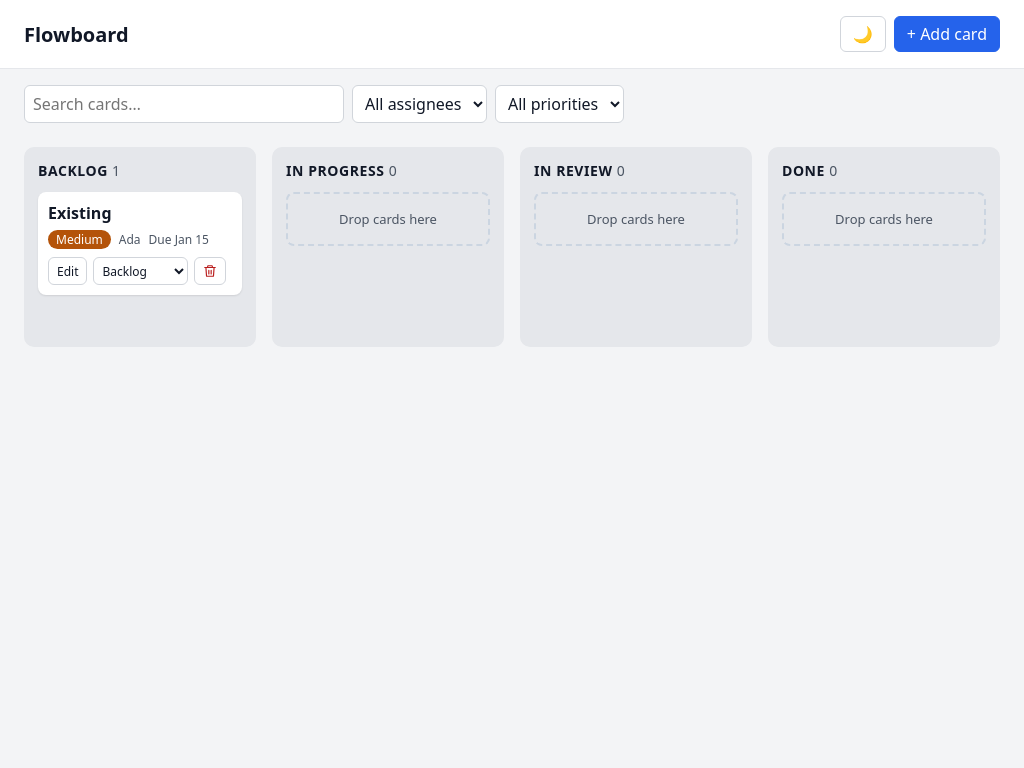
Test case: creating cards › adds a new card to Backlog after the last Backlog card
Expected: the element "Backlog" is shown, [24, 147, 256, 347]
Click the button "+ Add card". click: (947, 34)
box: [894, 16, 1000, 52]
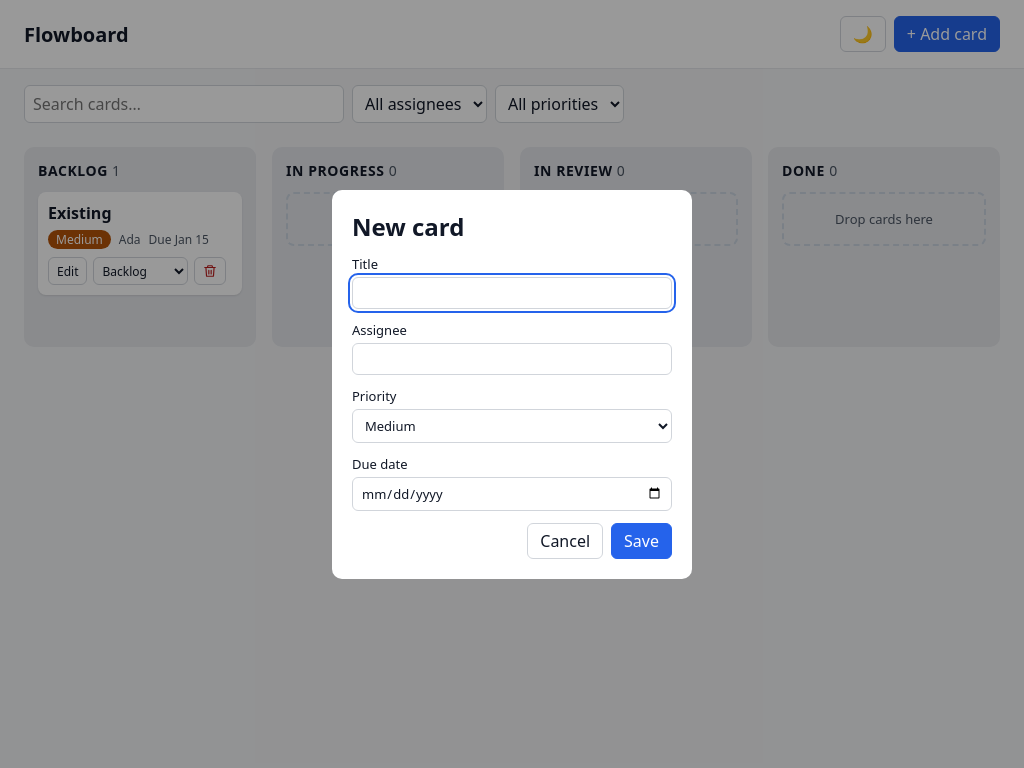
Type "  Ship it " into the field labelled "Title". click: (512, 292)
box: [352, 276, 672, 308]
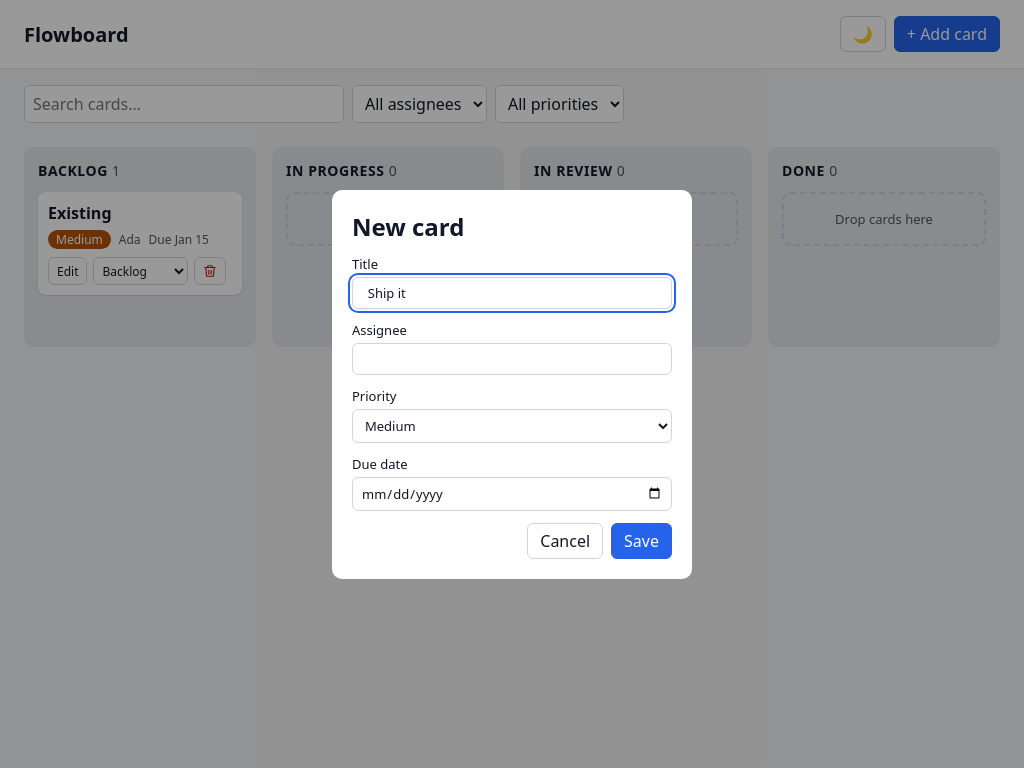
Type "Grace" into the field labelled "Assignee". click: (512, 358)
box: [352, 342, 672, 374]
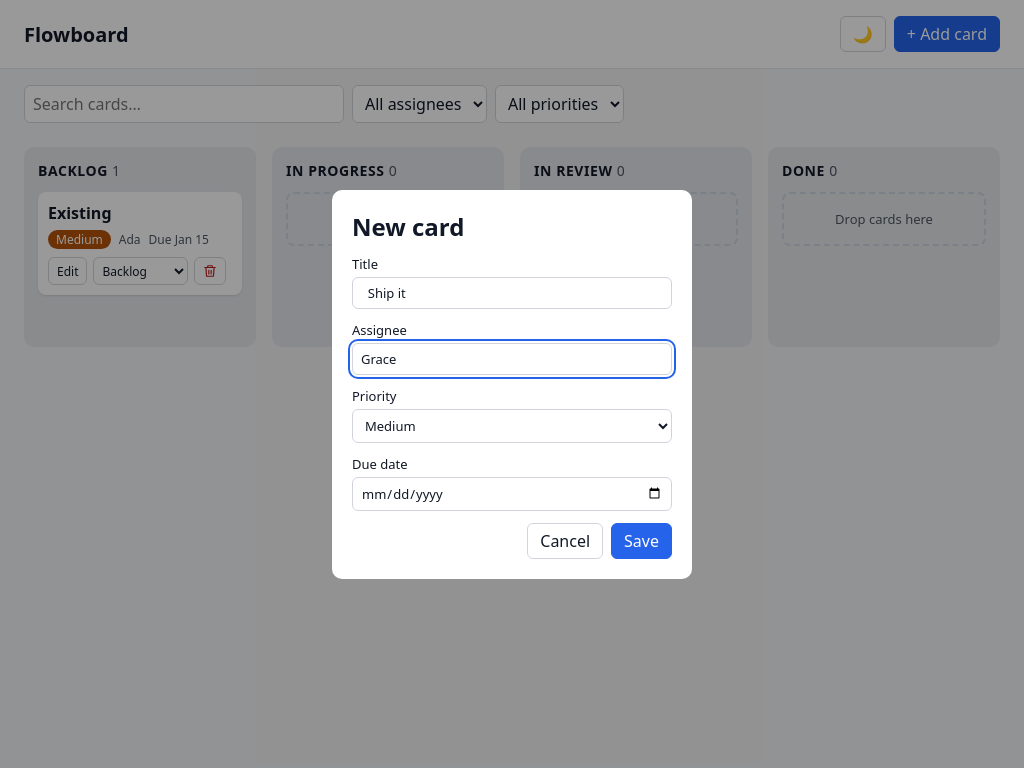
Select "High" in the dropdown labelled "Priority". click: (512, 426)
box: [352, 408, 672, 442]
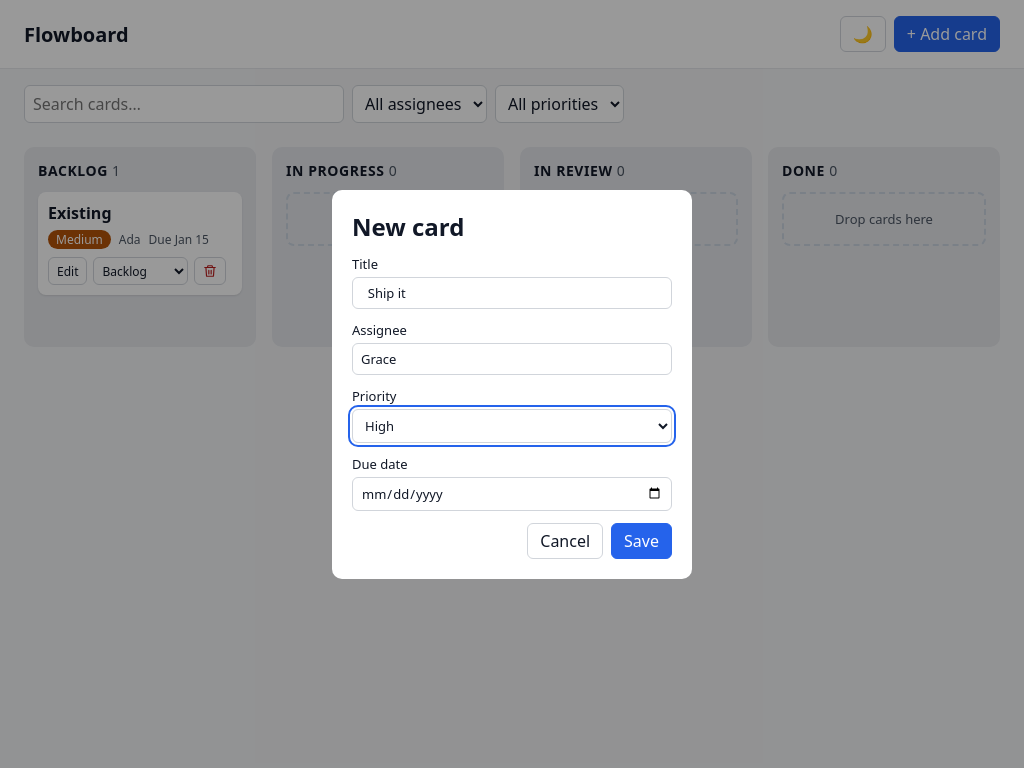
Type "2099-03-04" into the date field labelled "Due date". click: (512, 494)
box: [352, 476, 672, 510]
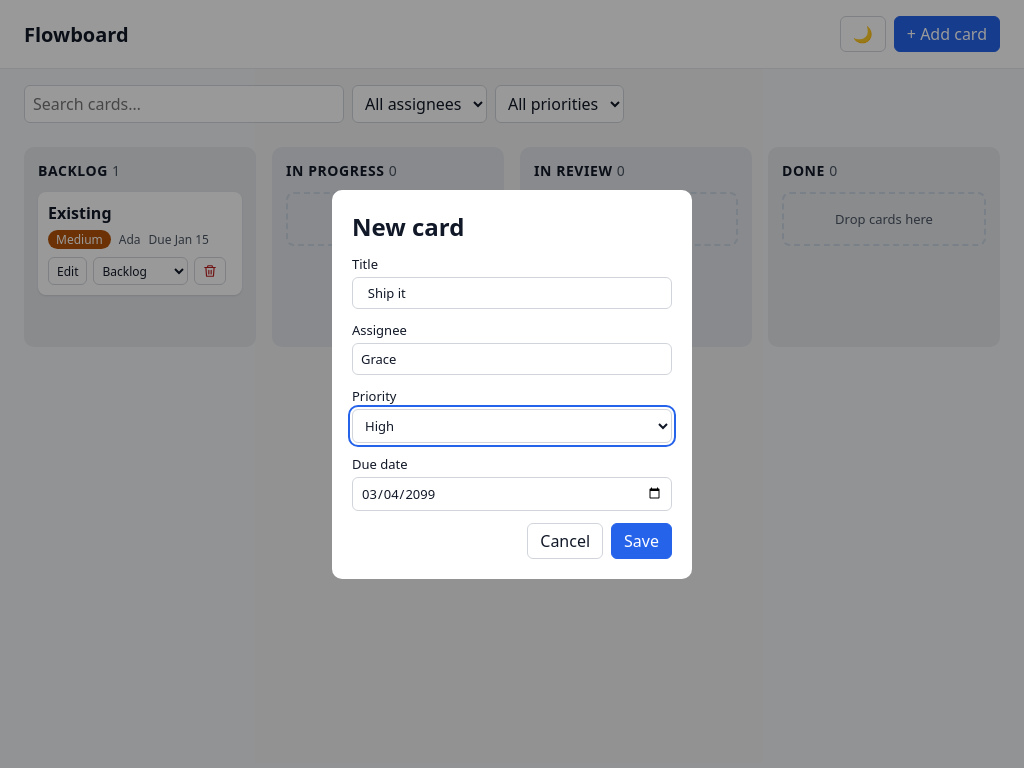
Click the button "Save". click: (642, 540)
box: [611, 522, 672, 558]
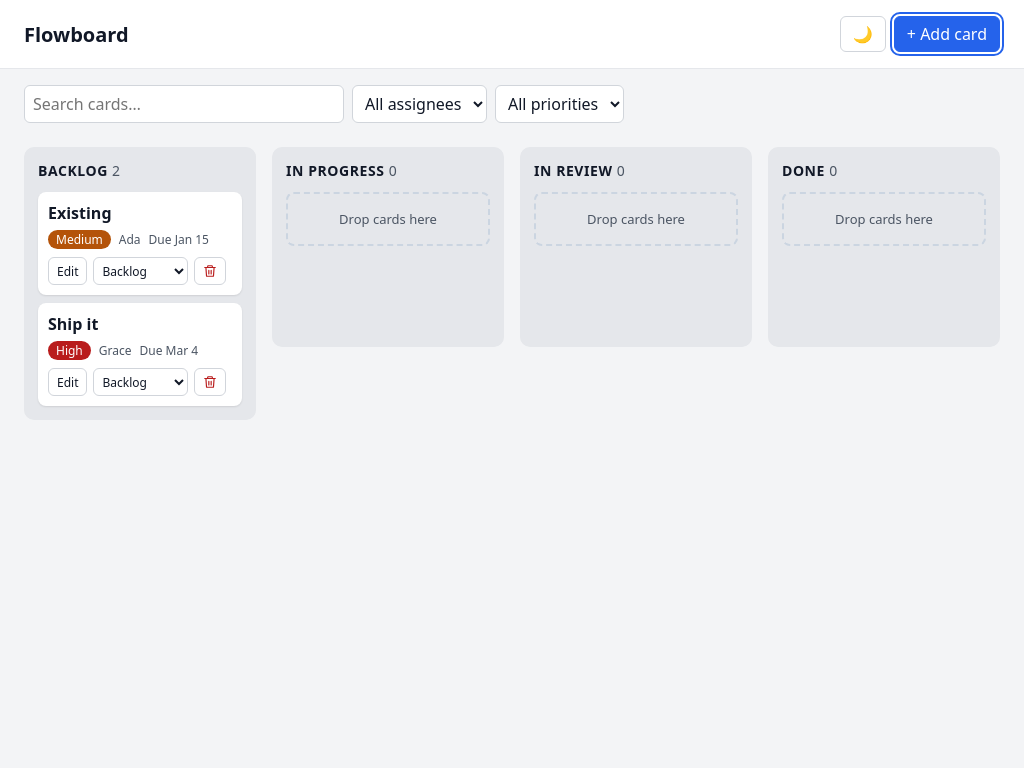
Expected: the heading "Ship it" is shown, [48, 313, 98, 335]
Expected: the dialog is gone
